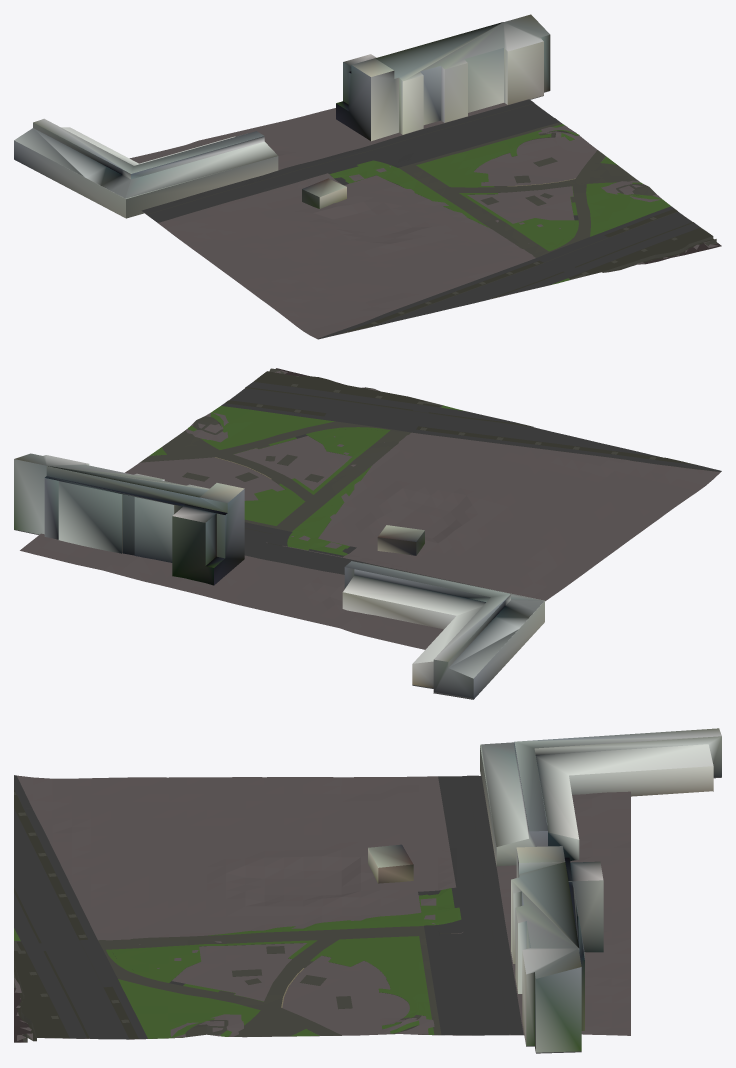
3 renders of one model, top to bottom at view 1: azimuth 30°, elevation 25°; view 2: azimuth 150°, elevation 25°; view 3: azimuth 270°, elevation 25°, orthographic. The views are drawn at different scales.
Parts seen in each view (by area): view 1: c_m19_p06; view 2: c_m19_p06; view 3: c_m19_p06.
Boxes of the visible parts, x1,y1,x2,y2 form: c_m19_p06: (14,14,721,339); c_m19_p06: (14,368,721,699); c_m19_p06: (14,728,721,1053).
Size of the model in its own units: 149 by 21.01 by 147.
